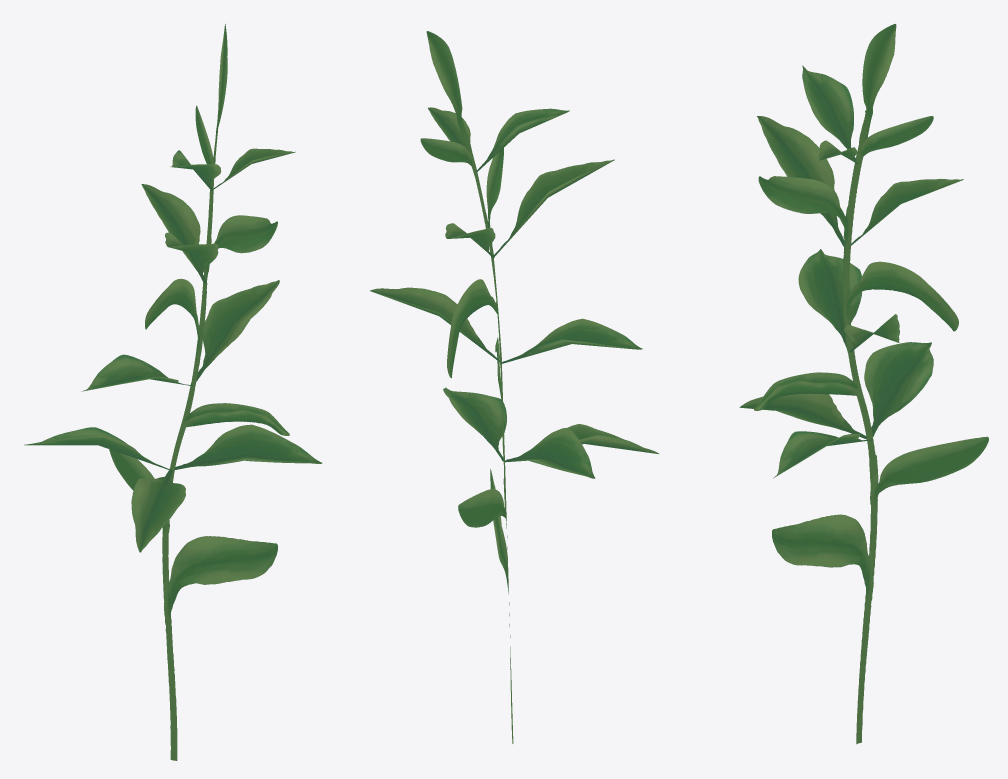
Rendered from MEADOW_SM_Plant_01_01.gltf.
The picture shows the model from 3 angles, left to right: view 1: azimuth 30°, elevation 25°; view 2: azimuth 150°, elevation 25°; view 3: azimuth 270°, elevation 25°; orthographic projection. The views are drawn at different scales.
Parts seen in each view (by area): view 1: SM_Plant_01_01_LOD0; view 2: SM_Plant_01_01_LOD0; view 3: SM_Plant_01_01_LOD0.
Part boxes in pixels (x1,y1,x2,y2): SM_Plant_01_01_LOD0: [24, 24, 322, 760]; SM_Plant_01_01_LOD0: [370, 31, 658, 743]; SM_Plant_01_01_LOD0: [739, 24, 988, 744].
Size of the model in its own units: 0.3364 by 0.8668 by 0.2928.
Materials: 1 (1 with a texture image).
